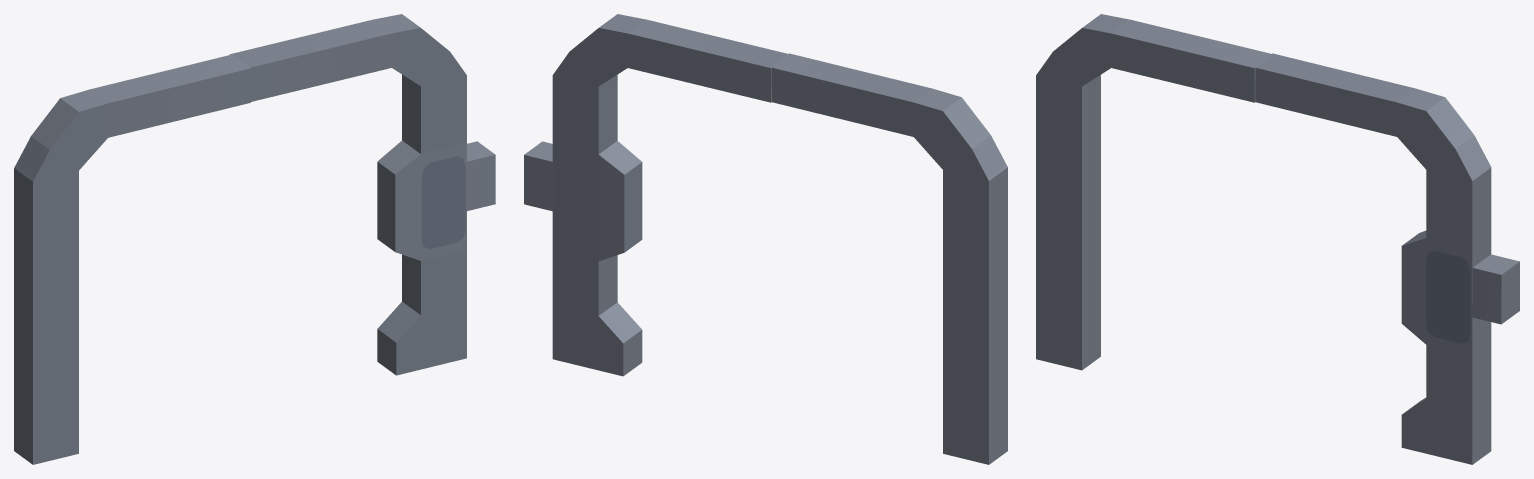
The model's file is Porta3.fbx.
The picture shows the model from 3 angles, left to right: view 1: azimuth 30°, elevation 25°; view 2: azimuth 150°, elevation 25°; view 3: azimuth 330°, elevation 25°; orthographic projection.
Visible parts, largest first — view 1: Cube.007; view 2: Cube.007; view 3: Cube.007.
Boxes of the visible parts, x1,y1,x2,y2 form: Cube.007: [14, 14, 495, 464]; Cube.007: [524, 14, 1007, 464]; Cube.007: [1036, 14, 1519, 464].
Size of the model in its own units: 13.87 by 189 by 134.
